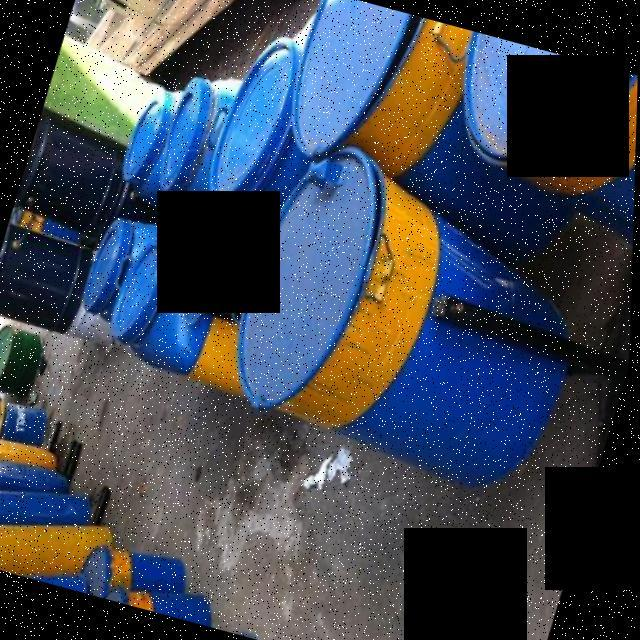bin: (204, 141, 635, 502), (250, 0, 476, 204), (429, 29, 640, 234), (88, 205, 281, 401), (168, 38, 338, 224), (81, 44, 212, 198), (58, 206, 198, 325)
